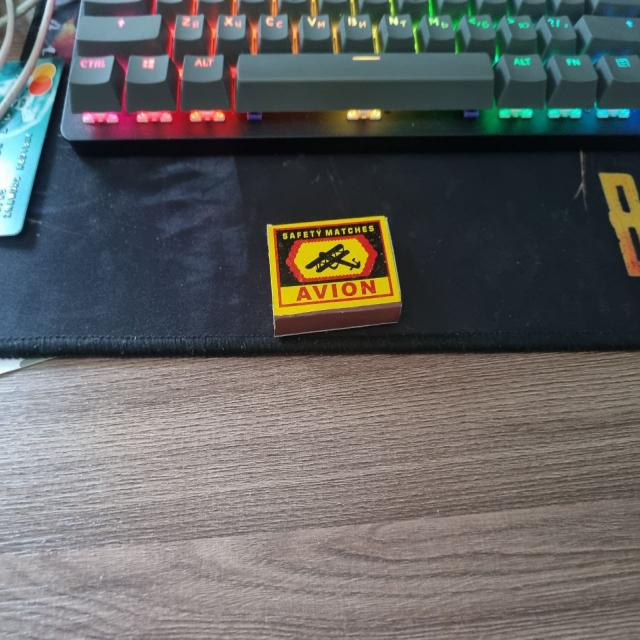match: (264, 213, 404, 337)
